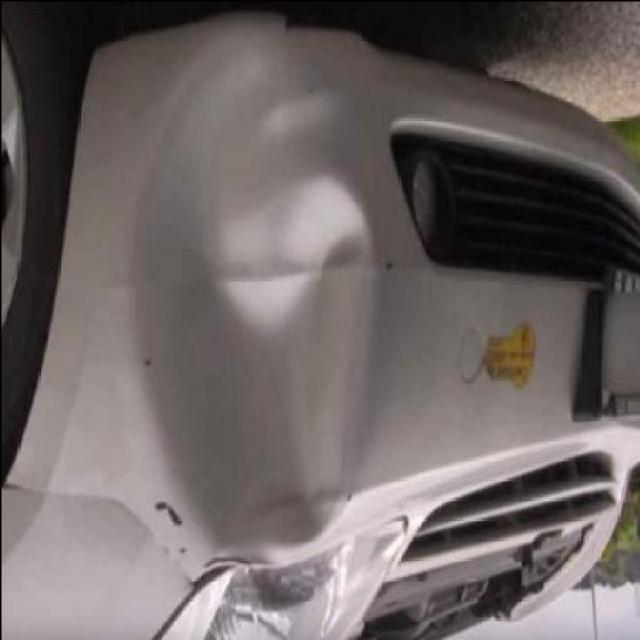damage: (126, 26, 382, 559), (2, 468, 191, 565)
